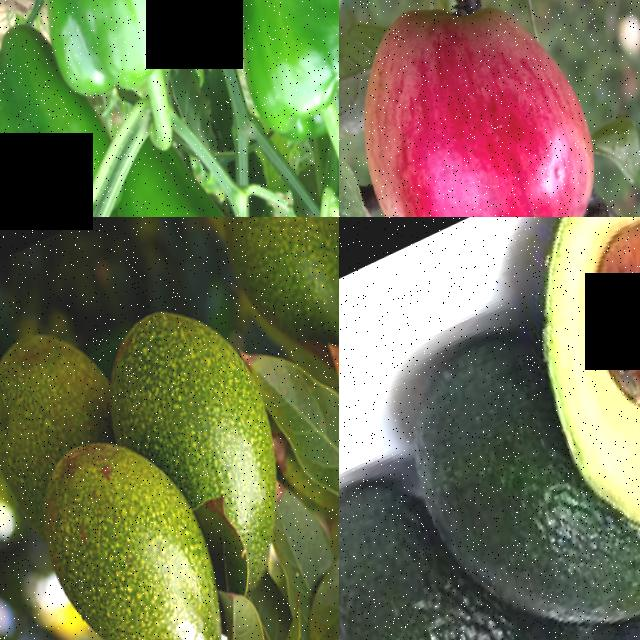apple: (339, 0, 638, 217)
avocado: (84, 271, 332, 640), (375, 301, 640, 640), (475, 217, 640, 585), (11, 403, 261, 640), (339, 441, 541, 640), (0, 299, 134, 520), (193, 217, 339, 403)
bell pepper: (0, 0, 250, 144), (0, 3, 97, 217), (207, 0, 339, 156), (100, 138, 247, 217)
